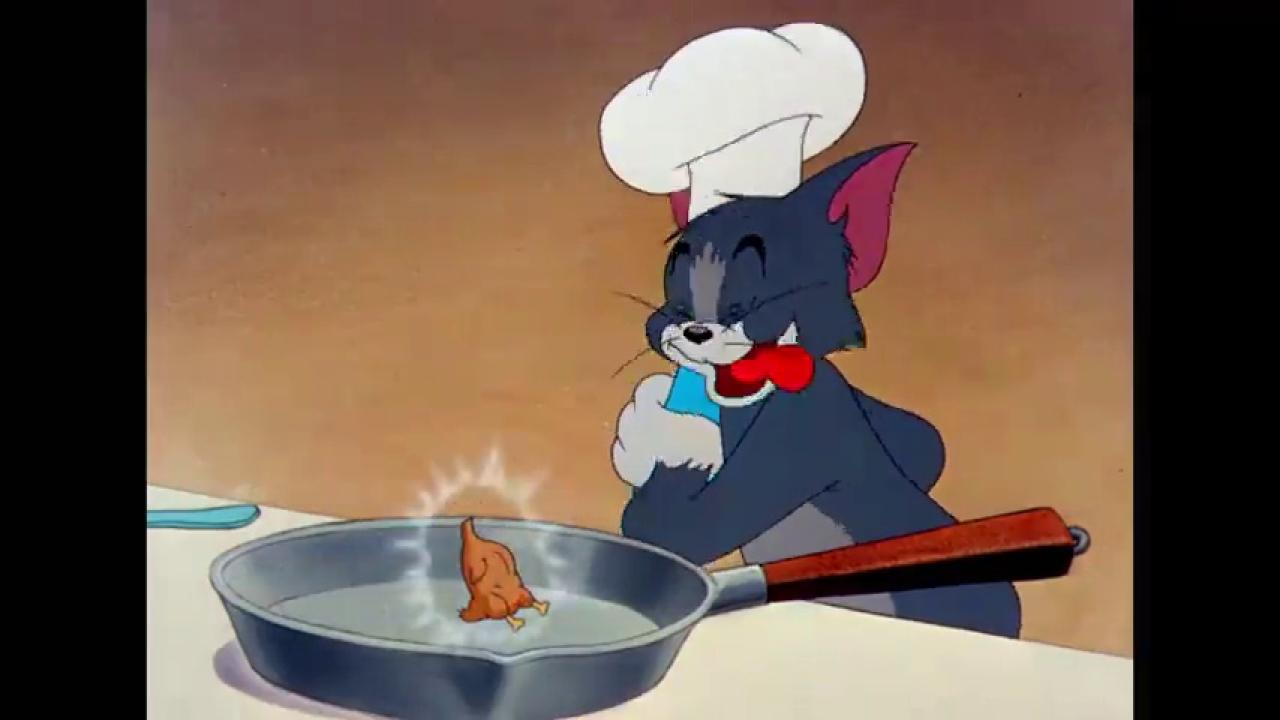Tom: (609, 139, 1025, 640)
